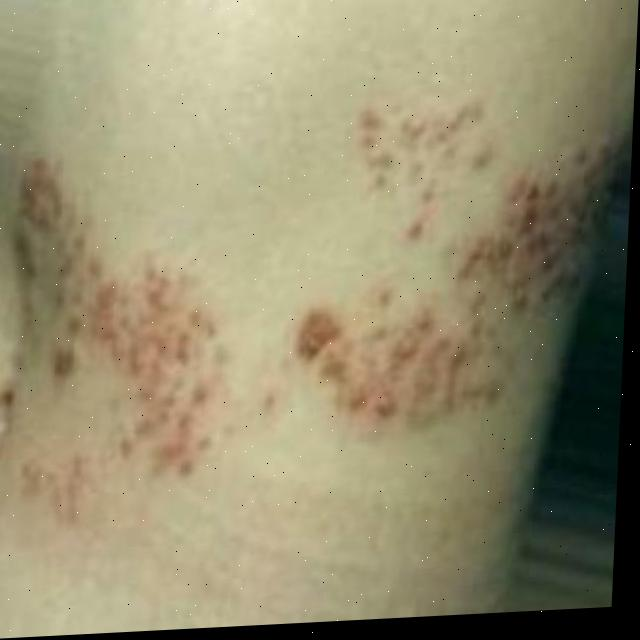Shingles: (293, 85, 622, 438), (0, 156, 222, 499)
